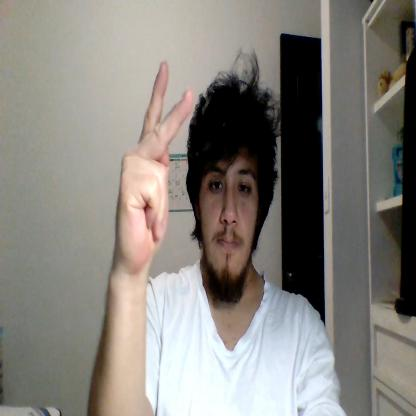P: (114, 63, 192, 272)
